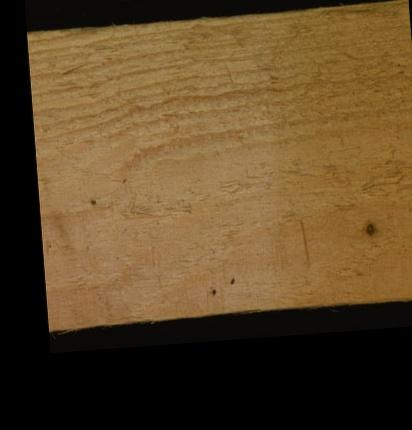small_knot: (84, 192, 98, 207), (116, 173, 132, 185), (223, 273, 237, 285), (205, 283, 218, 295)
